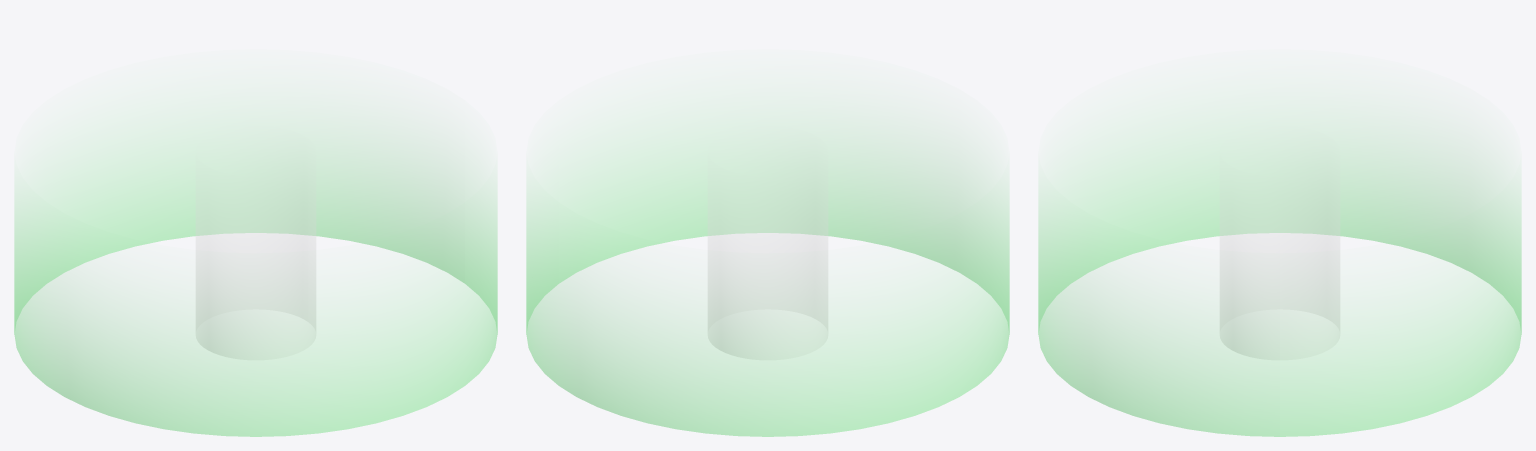
File: fx_pillar_mutant.glb
3 views of the same model, side by side, from view 1: azimuth 30°, elevation 25°; view 2: azimuth 150°, elevation 25°; view 3: azimuth 270°, elevation 25° (orthographic).
Parts seen in each view (by area): view 1: fx_pillar_mutant; view 2: fx_pillar_mutant; view 3: fx_pillar_mutant.
Part boxes in pixels (left/top/right/bottom): fx_pillar_mutant: left=14, top=107, right=497, bottom=436; fx_pillar_mutant: left=526, top=107, right=1009, bottom=436; fx_pillar_mutant: left=1038, top=107, right=1521, bottom=436.
Bounding box in the file's own units: 2 × 1 × 2.
2 materials, 2 textured.
